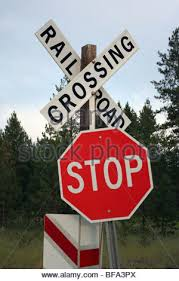stop_sign: (56, 127, 155, 222)
